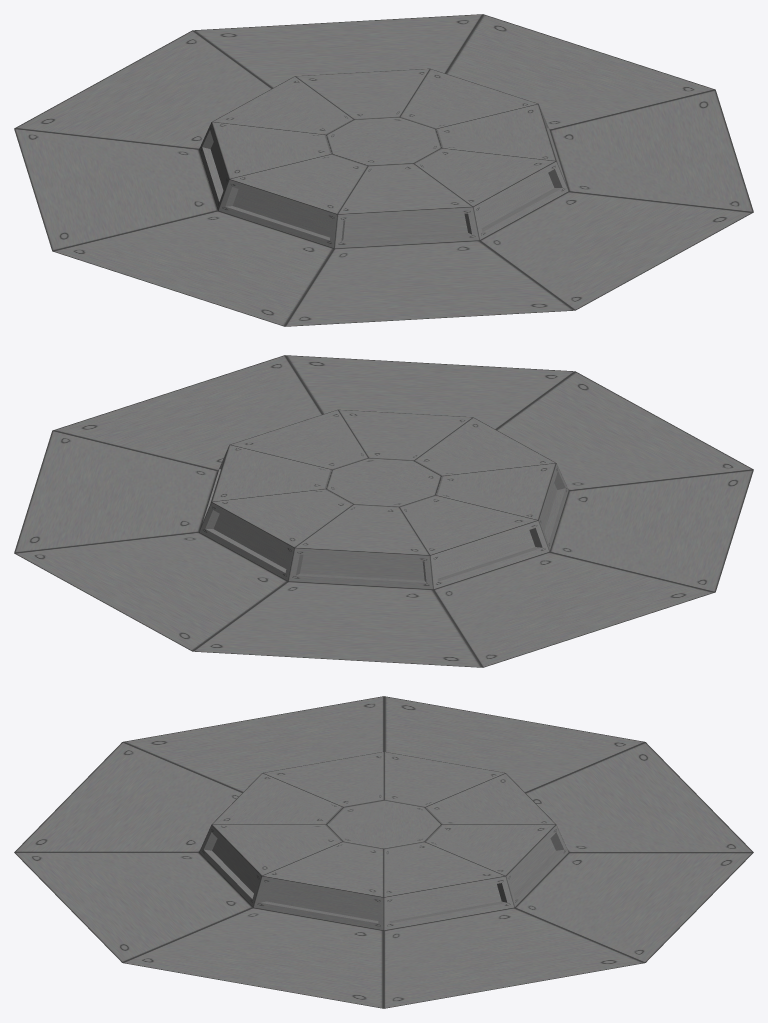
The model's file is stage.glb.
3 views of the same model, one above another, from view 1: azimuth 30°, elevation 25°; view 2: azimuth 150°, elevation 25°; view 3: azimuth 270°, elevation 25° (orthographic). The views are drawn at different scales.
Visible parts, largest first — view 1: Circle; view 2: Circle; view 3: Circle.
Part boxes in pixels (box(x1,y1,x2,y2)): Circle: box(14, 14, 753, 326); Circle: box(14, 355, 753, 667); Circle: box(14, 696, 753, 1008).
Bounding box in the file's own units: 12 × 0.5 × 12.
1 material, 1 textured.
